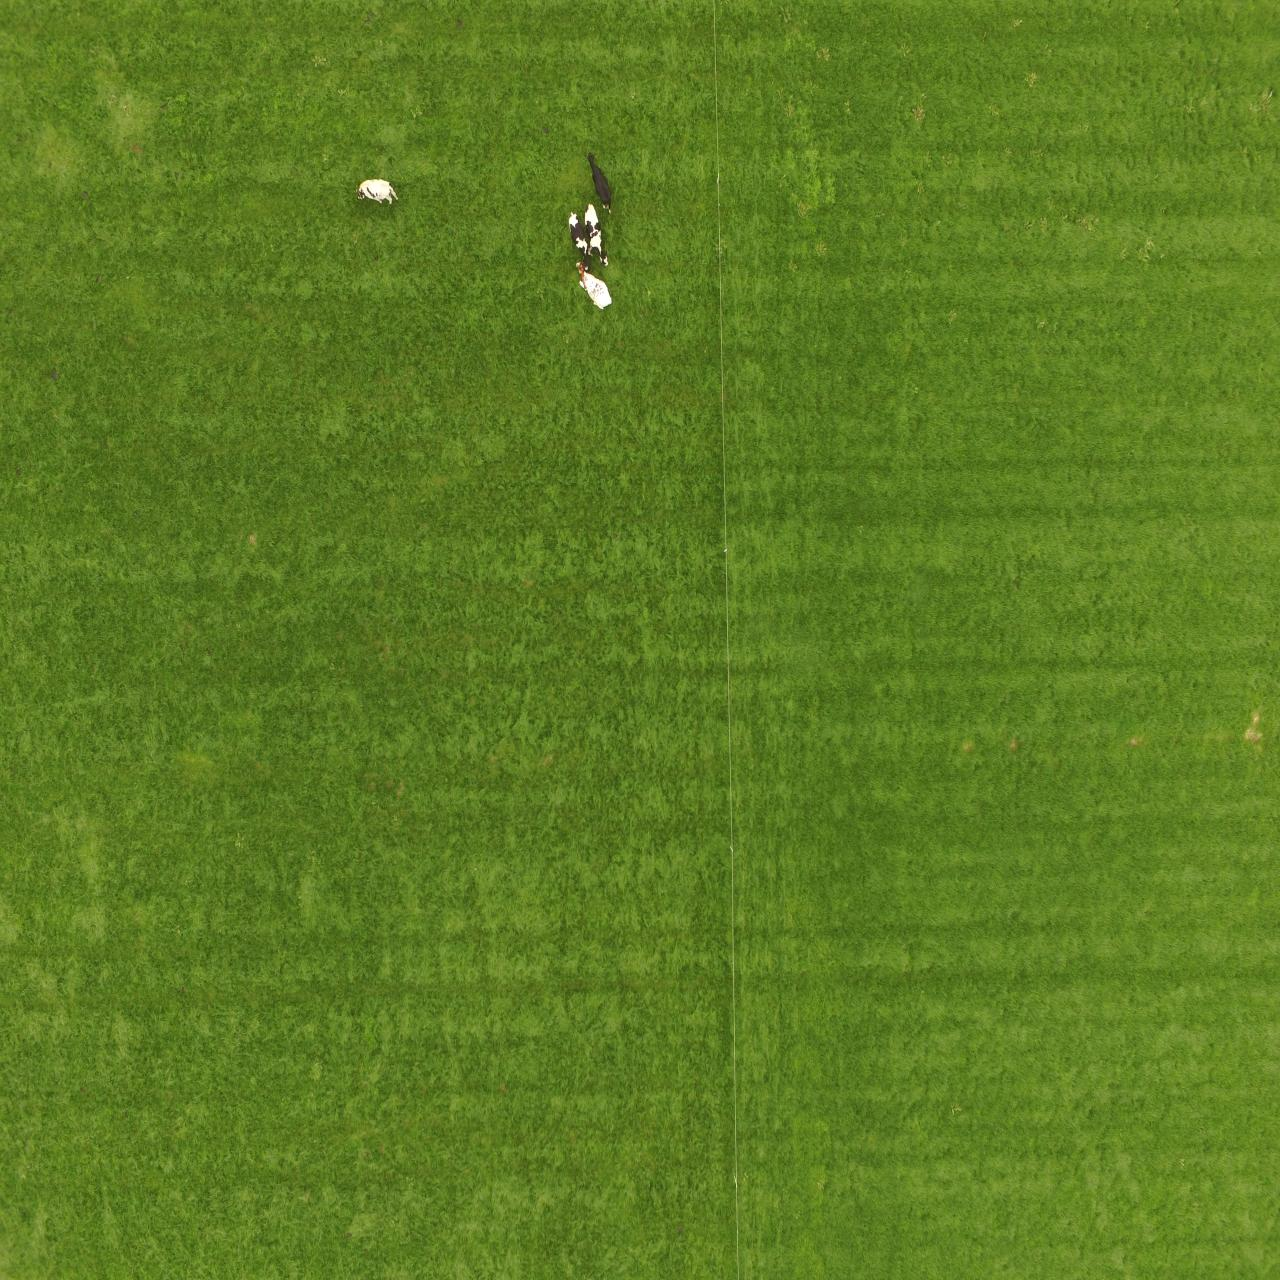cow: (343, 164, 402, 210), (578, 203, 614, 265), (570, 268, 618, 314), (584, 154, 620, 206), (563, 215, 598, 263)
